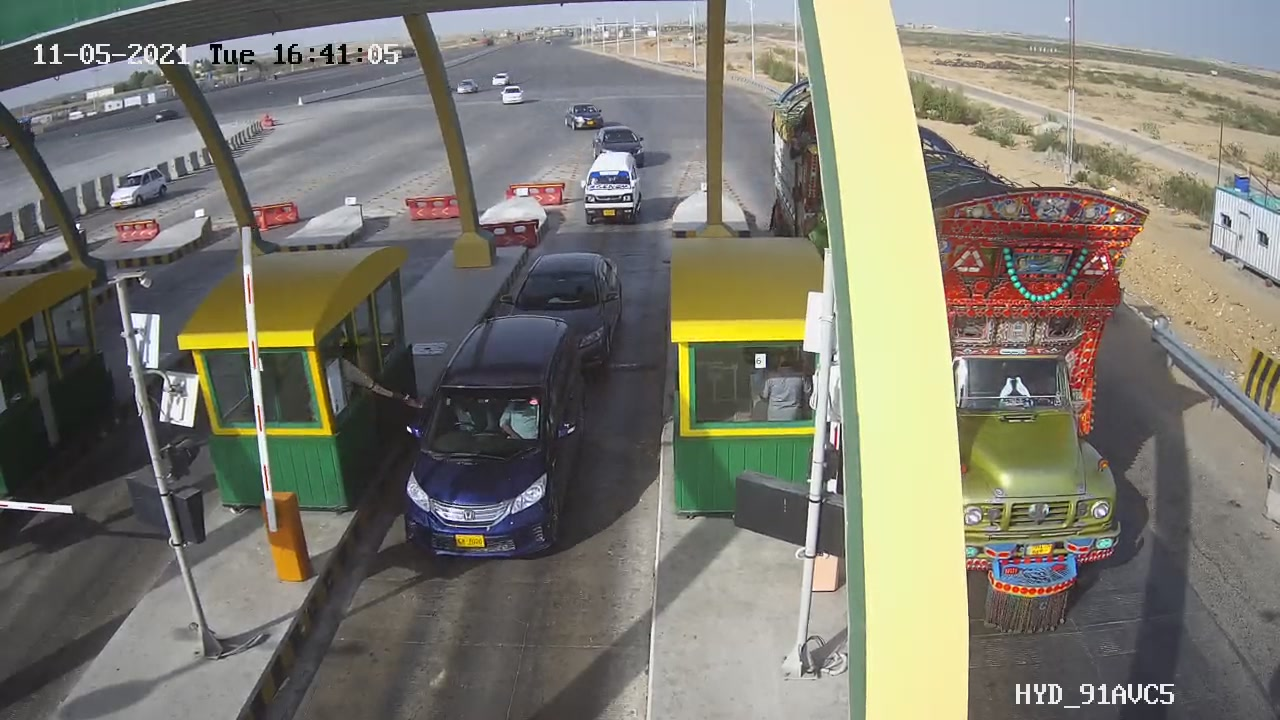F1: (379, 298, 607, 579), (568, 143, 658, 241)
